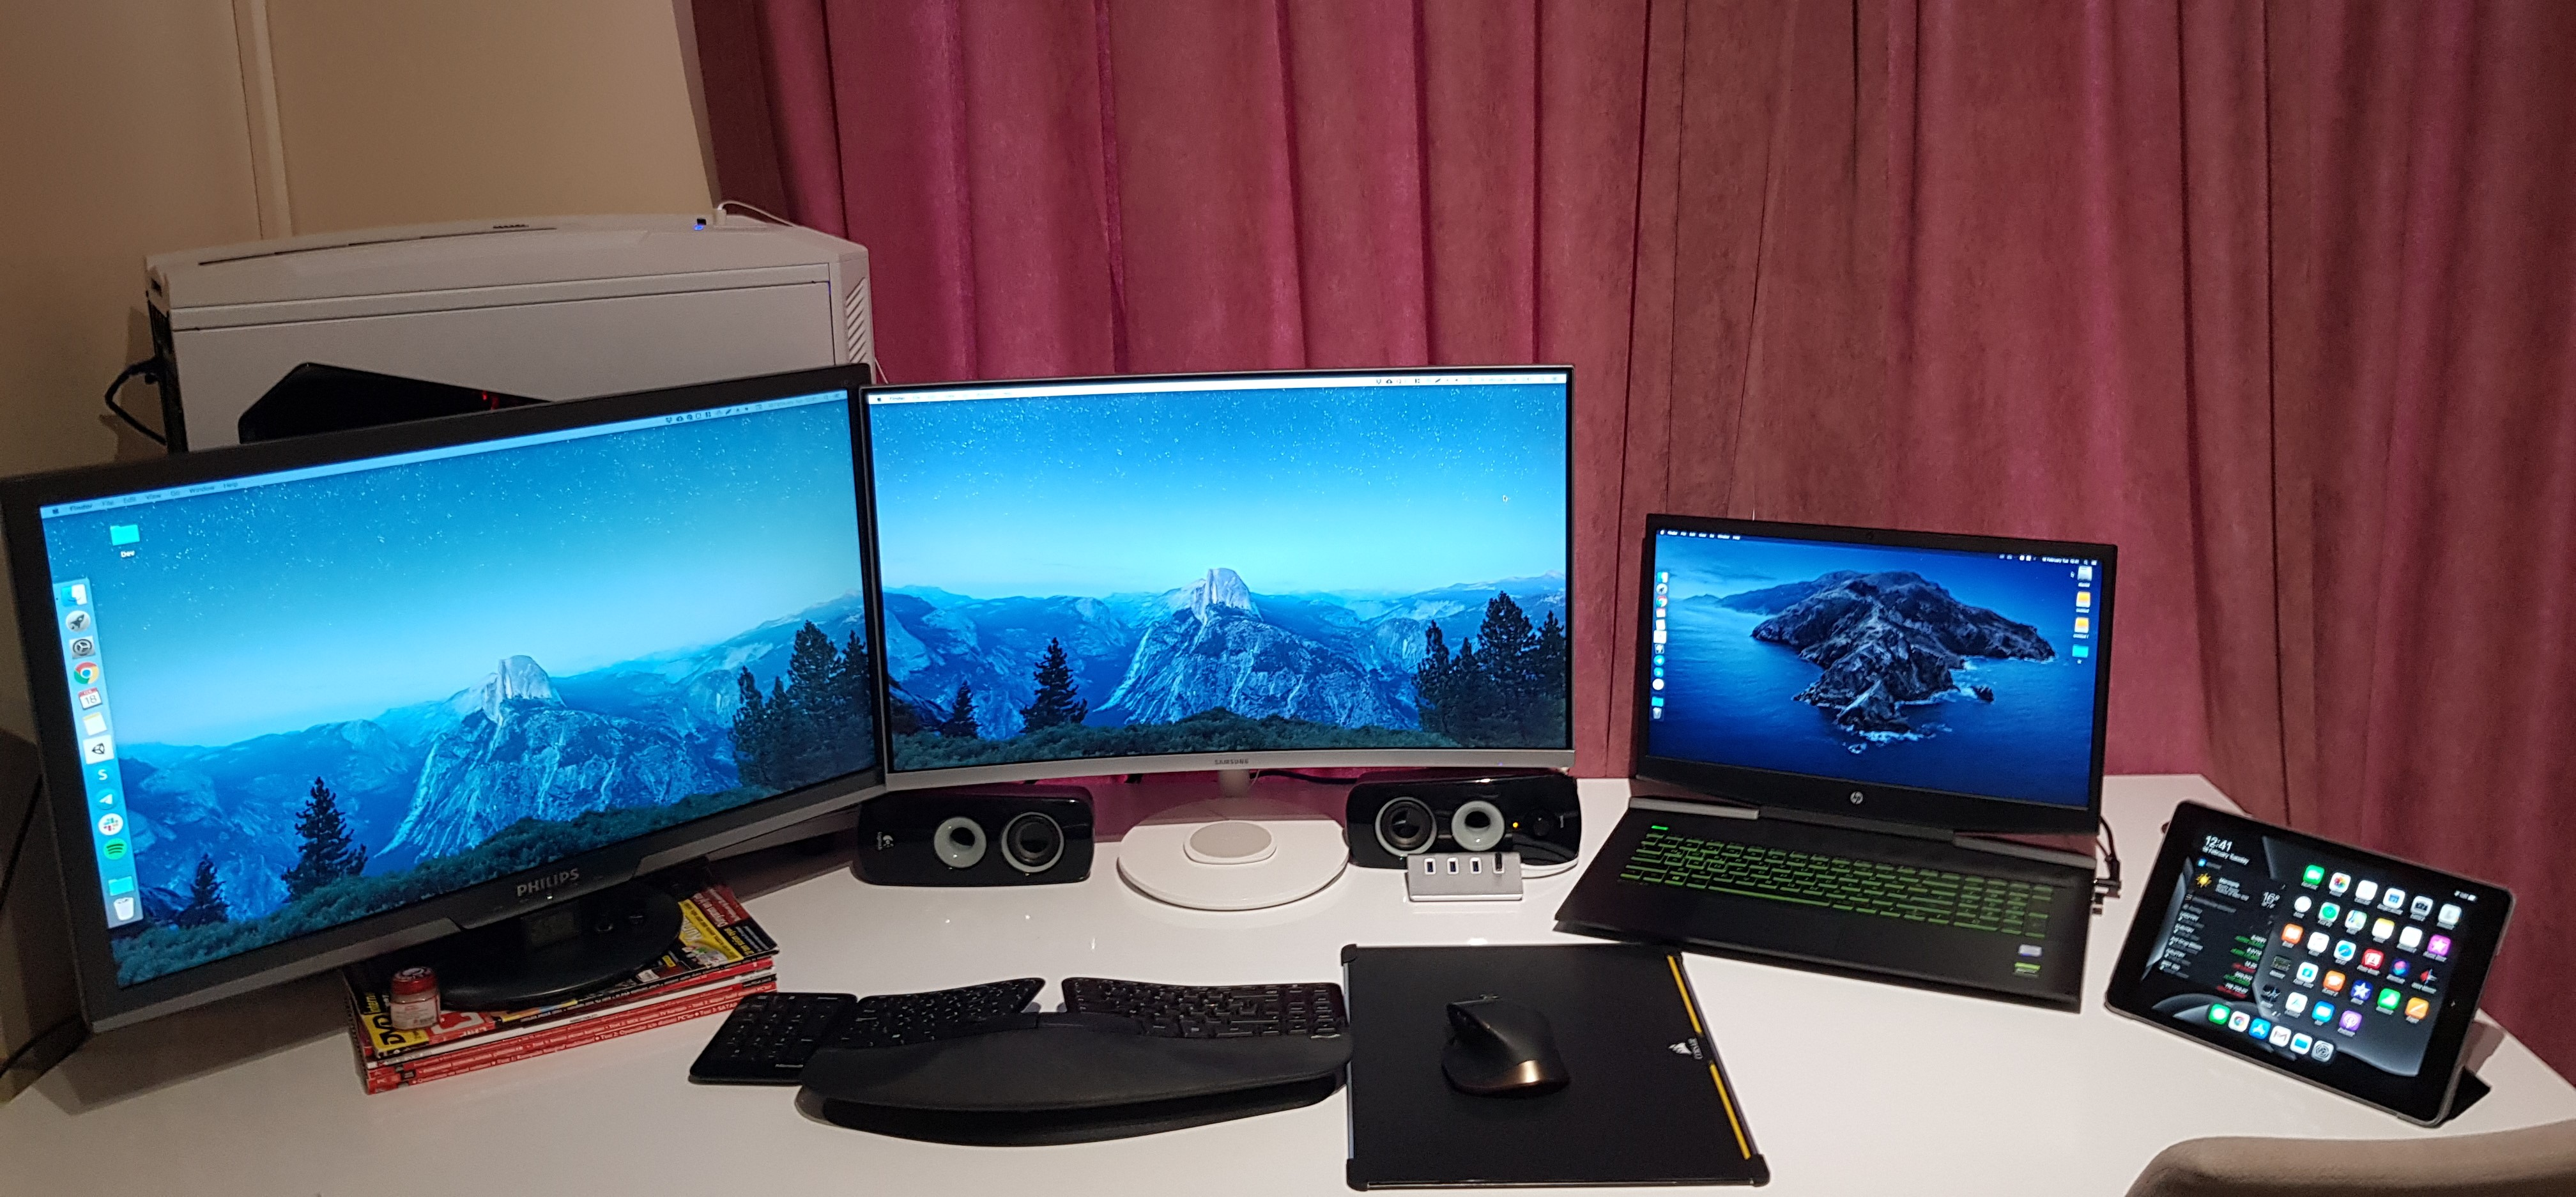Desktop (Generic): (146, 260, 866, 474)
External Numpad: (716, 985, 828, 1095)
External Speakers (Subwoofers): (846, 794, 1094, 888), (1357, 783, 1567, 873)
Keyboard (Ergonomic): (828, 973, 1350, 1120)
Laptop (OSX): (1620, 521, 2134, 1016)
Monitor (Landscape): (39, 482, 908, 858), (871, 391, 1575, 774)
Monitor (Laptop): (1638, 516, 2123, 845)
Mouse (Ergonomic): (1410, 995, 1575, 1103)
Mousepad (Gaming): (1350, 924, 1776, 1187)
Tablet (iPad): (2123, 784, 2495, 1118)
USB Hub: (1403, 845, 1528, 904)
